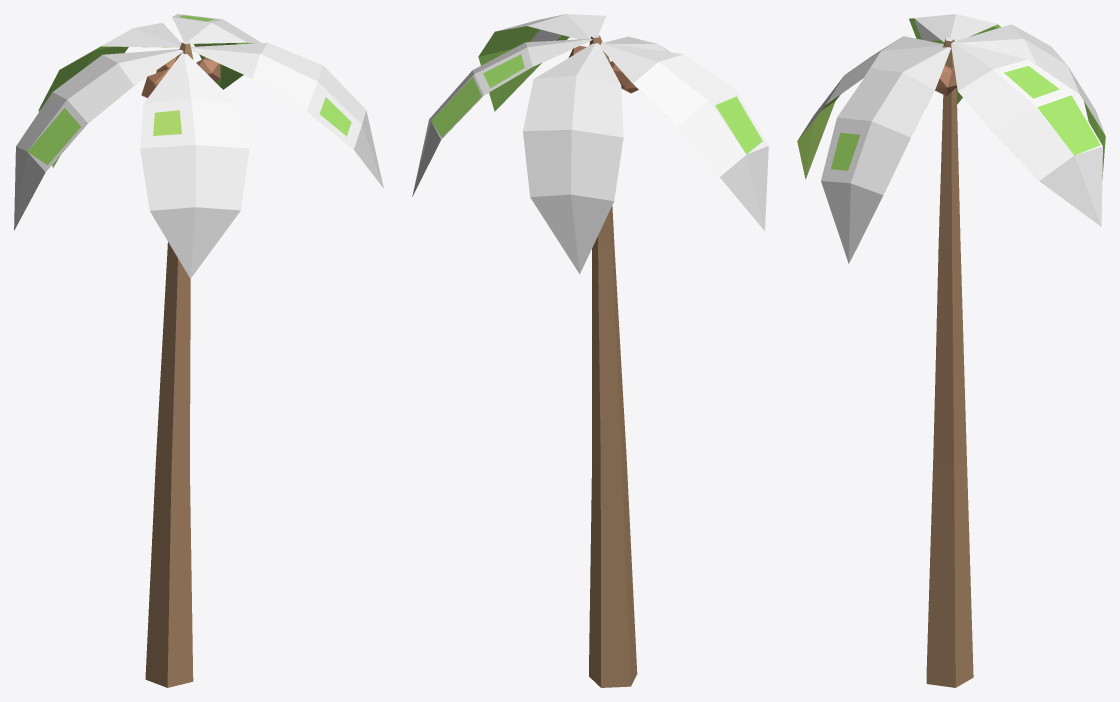
The model's file is Palm_Tree_Coconut_s_Snow_BT_01.fbx.
The picture shows the model from 3 angles, left to right: view 1: azimuth 30°, elevation 25°; view 2: azimuth 150°, elevation 25°; view 3: azimuth 270°, elevation 25°; orthographic projection. The views are drawn at different scales.
Parts seen in each view (by area): view 1: Palm_Tree_Coconut_s_Snow_BT_01; view 2: Palm_Tree_Coconut_s_Snow_BT_01; view 3: Palm_Tree_Coconut_s_Snow_BT_01.
Boxes of the visible parts, x1=… form: Palm_Tree_Coconut_s_Snow_BT_01: x1=14, y1=14, x2=383, y2=687; Palm_Tree_Coconut_s_Snow_BT_01: x1=412, y1=14, x2=768, y2=687; Palm_Tree_Coconut_s_Snow_BT_01: x1=797, y1=14, x2=1105, y2=687.
Size of the model in its own units: 246 by 465 by 201.
